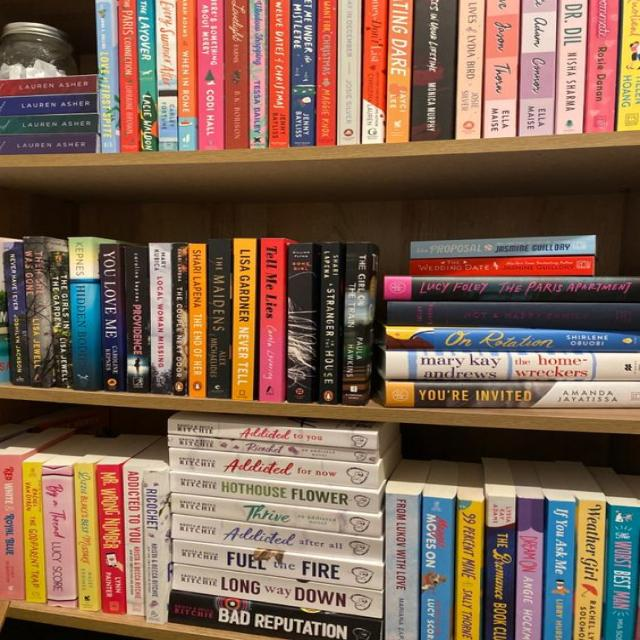book: (171, 562, 384, 618), (167, 591, 383, 640), (172, 540, 382, 590), (171, 515, 384, 563), (170, 494, 382, 538), (169, 449, 377, 490), (170, 472, 377, 513), (385, 352, 640, 380), (386, 302, 640, 329), (384, 276, 640, 302), (385, 382, 640, 408), (411, 0, 458, 141), (167, 419, 377, 450), (169, 435, 375, 464), (386, 327, 640, 350), (518, 0, 557, 137), (383, 493, 418, 640), (602, 505, 640, 640), (483, 0, 520, 138), (418, 496, 452, 640), (40, 465, 76, 600), (584, 0, 620, 133), (340, 241, 369, 406), (484, 496, 517, 640), (542, 501, 576, 640), (554, 0, 588, 134), (409, 234, 595, 258), (573, 500, 605, 639), (23, 236, 52, 388), (97, 464, 126, 615), (259, 238, 285, 401), (70, 236, 97, 391), (230, 239, 256, 399), (455, 0, 484, 140), (197, 0, 224, 150), (286, 242, 311, 404), (385, 0, 413, 143), (517, 497, 545, 640), (206, 239, 231, 399), (455, 500, 483, 640), (224, 0, 250, 149), (125, 245, 151, 393), (73, 464, 99, 611), (361, 0, 387, 145), (408, 256, 595, 276), (22, 461, 48, 602), (290, 0, 315, 146), (100, 242, 124, 392), (122, 467, 146, 616), (144, 470, 167, 624), (0, 454, 24, 601), (96, 0, 119, 153), (149, 242, 172, 395), (118, 0, 141, 152), (2, 242, 26, 386), (318, 241, 339, 404), (48, 252, 72, 389), (338, 0, 360, 146), (156, 0, 177, 151), (137, 1, 158, 151), (616, 0, 640, 131), (177, 0, 197, 151), (269, 0, 289, 148), (316, 0, 336, 145), (188, 243, 206, 398), (250, 0, 268, 147), (172, 242, 188, 396), (0, 94, 98, 115), (0, 114, 99, 134), (1, 76, 97, 96), (0, 136, 96, 152)
